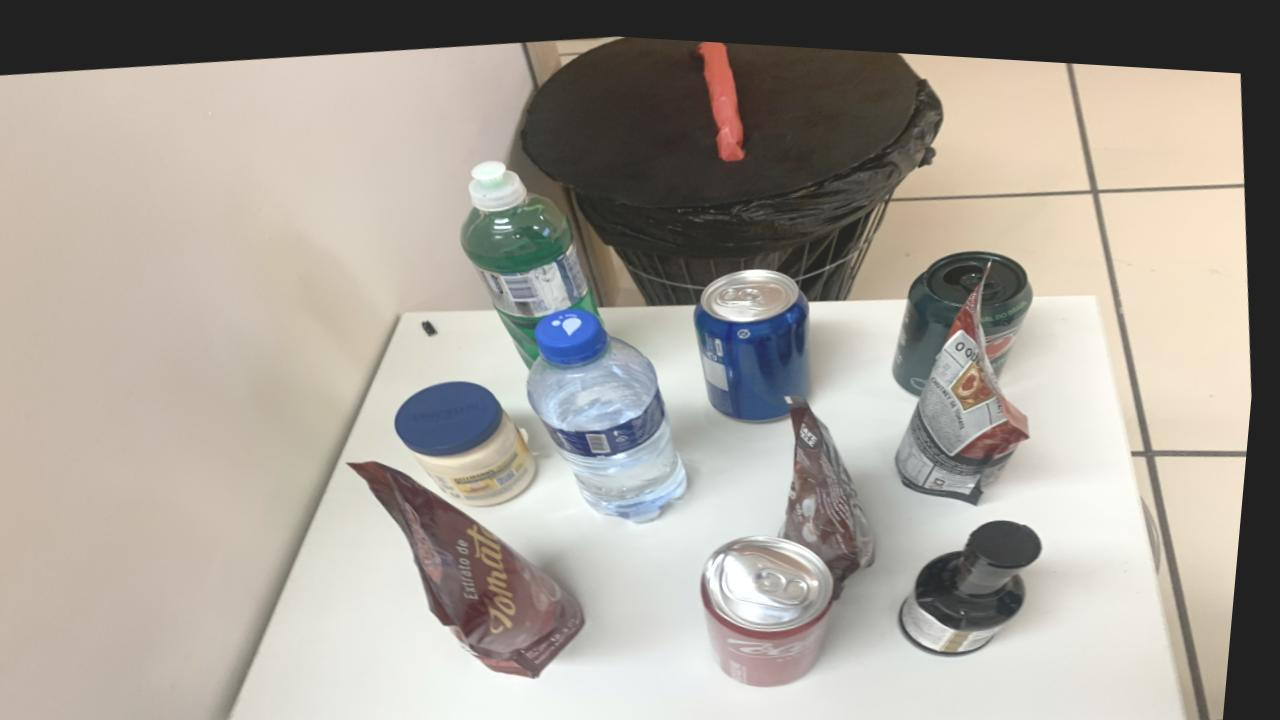Coffee-Pantry_Items: (788, 385, 884, 589)
Coke-Drinks: (710, 526, 846, 677)
Detergent-Cleanup_Items: (463, 154, 600, 360)
English_Sauce-Pantry_Items: (910, 506, 1052, 642)
Guarana_Can-Drinks: (899, 238, 1037, 383)
Mayonnaise-Pantry_Items: (402, 374, 544, 500)
Tomato_Sauce-Pantry_Items: (357, 456, 594, 670), (904, 270, 1034, 490)
Tonic-Drinks: (698, 260, 818, 411)
Water_Bottle-Drinks: (534, 301, 695, 513)
